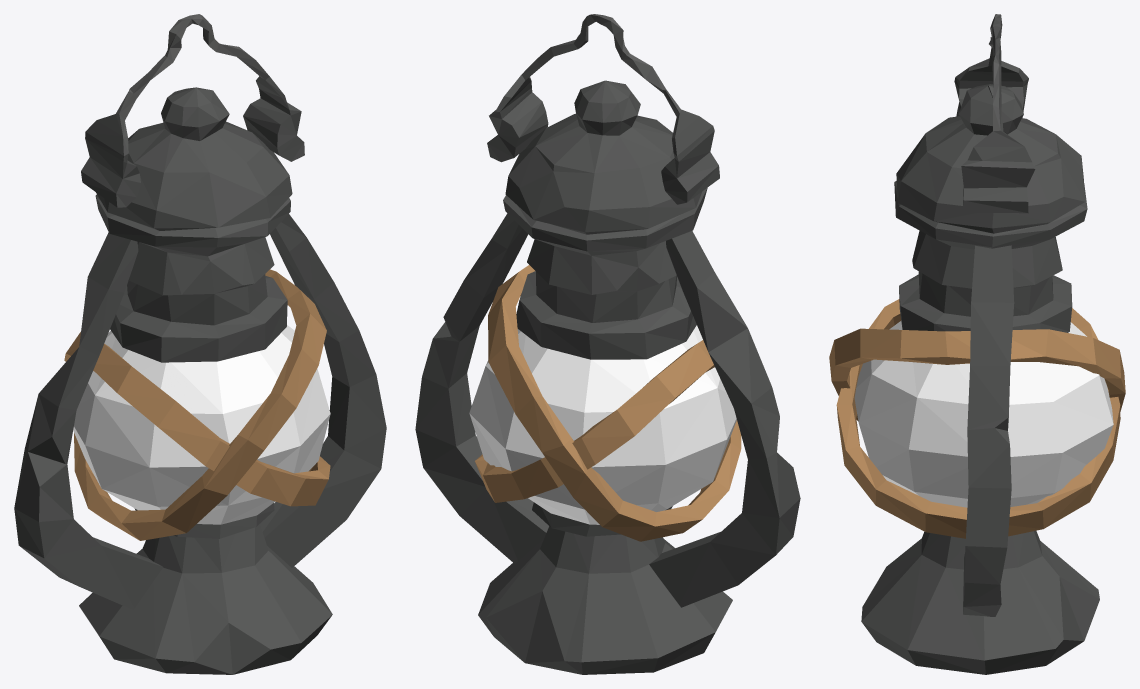
Rendered from Lamp_001.fbx.
3 renders of one model, left to right at view 1: azimuth 30°, elevation 25°; view 2: azimuth 150°, elevation 25°; view 3: azimuth 270°, elevation 25°, orthographic. The views are drawn at different scales.
Parts seen in each view (by area): view 1: Lamp_001; view 2: Lamp_001; view 3: Lamp_001.
Boxes of the visible parts, x1,y1,x2,y2 form: Lamp_001: (14,14,386,674); Lamp_001: (415,14,800,674); Lamp_001: (829,14,1125,674).
Bounding box in the file's own units: 0.266 × 0.438 × 0.1932.
